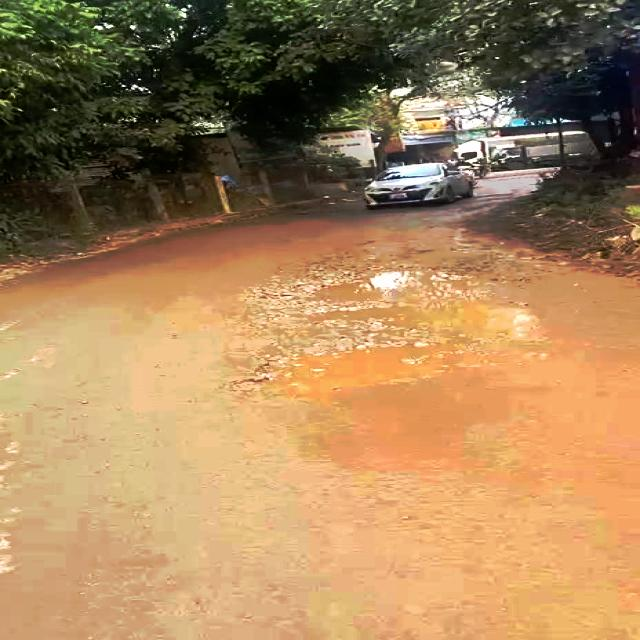pothole: (256, 265, 512, 340), (237, 331, 502, 397)
